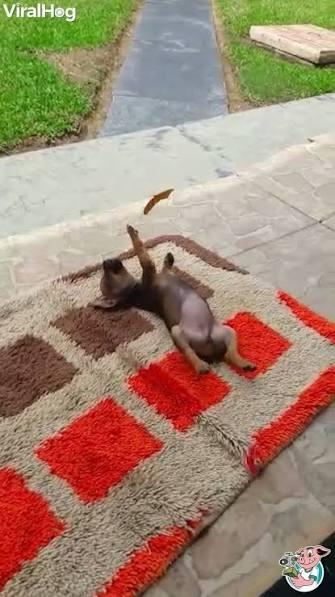puppy-dog: (91, 224, 257, 374)
